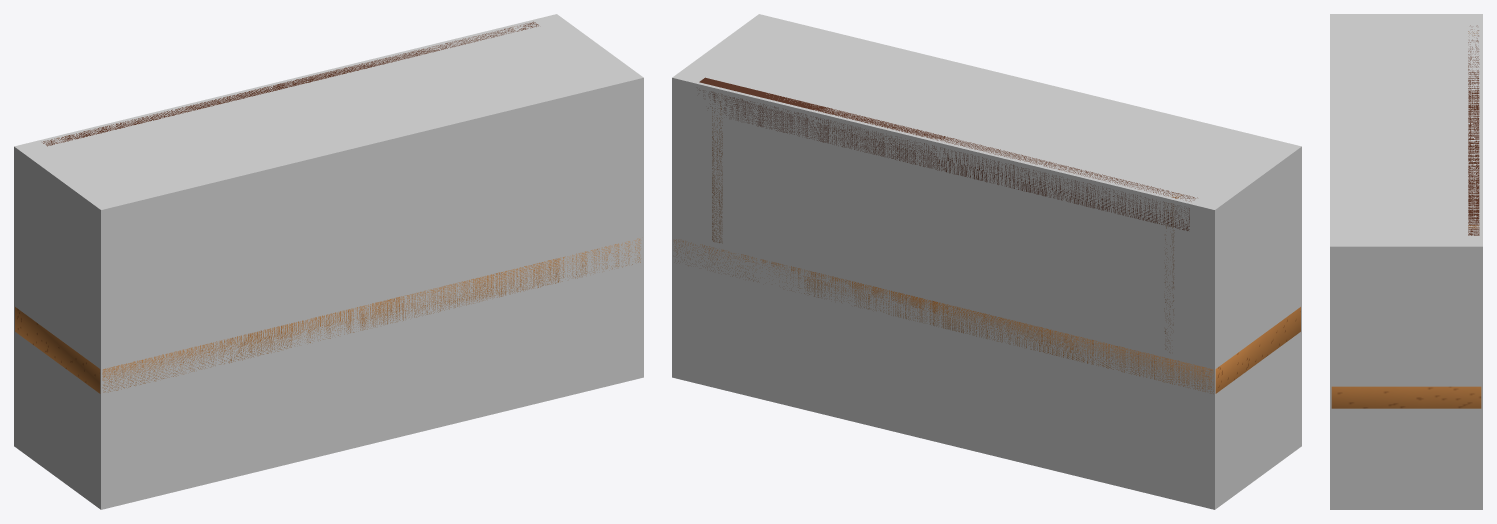
File: Cookie_Bench.fbx
3 renders of one model, left to right at view 1: azimuth 30°, elevation 25°; view 2: azimuth 150°, elevation 25°; view 3: azimuth 270°, elevation 25°, orthographic. The views are drawn at different scales.
Parts seen in each view (by area): view 1: COL_Cookie_Bench_0, Cookie_Bench_Seat, Cookie_Bench_Frame; view 2: COL_Cookie_Bench_0, Cookie_Bench_Frame, Cookie_Bench_Seat; view 3: COL_Cookie_Bench_0, Cookie_Bench_Seat, Cookie_Bench_Frame.
Part boxes in pixels (box(x1,y1,x2,y2)): COL_Cookie_Bench_0: box(14, 14, 643, 509); Cookie_Bench_Seat: box(15, 238, 640, 393); Cookie_Bench_Frame: box(42, 21, 538, 146); COL_Cookie_Bench_0: box(672, 14, 1301, 509); Cookie_Bench_Frame: box(699, 77, 1197, 352); Cookie_Bench_Seat: box(674, 239, 1300, 393); COL_Cookie_Bench_0: box(1330, 14, 1482, 509); Cookie_Bench_Seat: box(1331, 386, 1481, 408); Cookie_Bench_Frame: box(1468, 25, 1479, 235).
Size of the model in its own units: 1.8 by 0.95 by 0.5.
